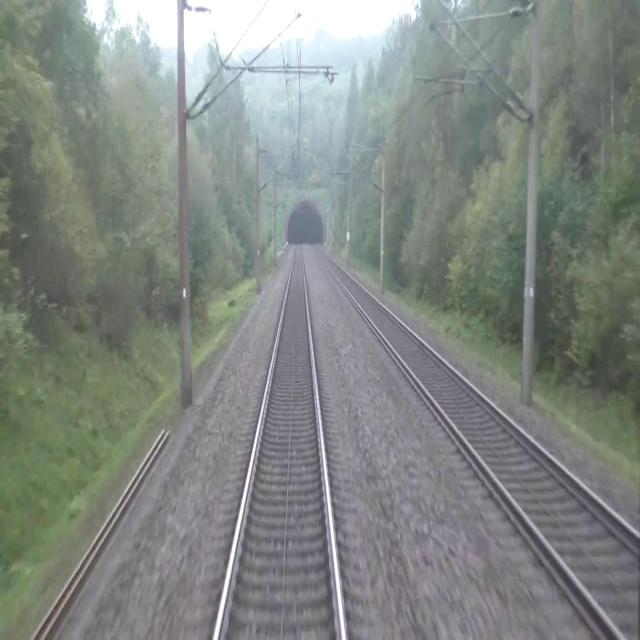rail-track: (312, 244, 640, 639), (217, 244, 341, 639)
